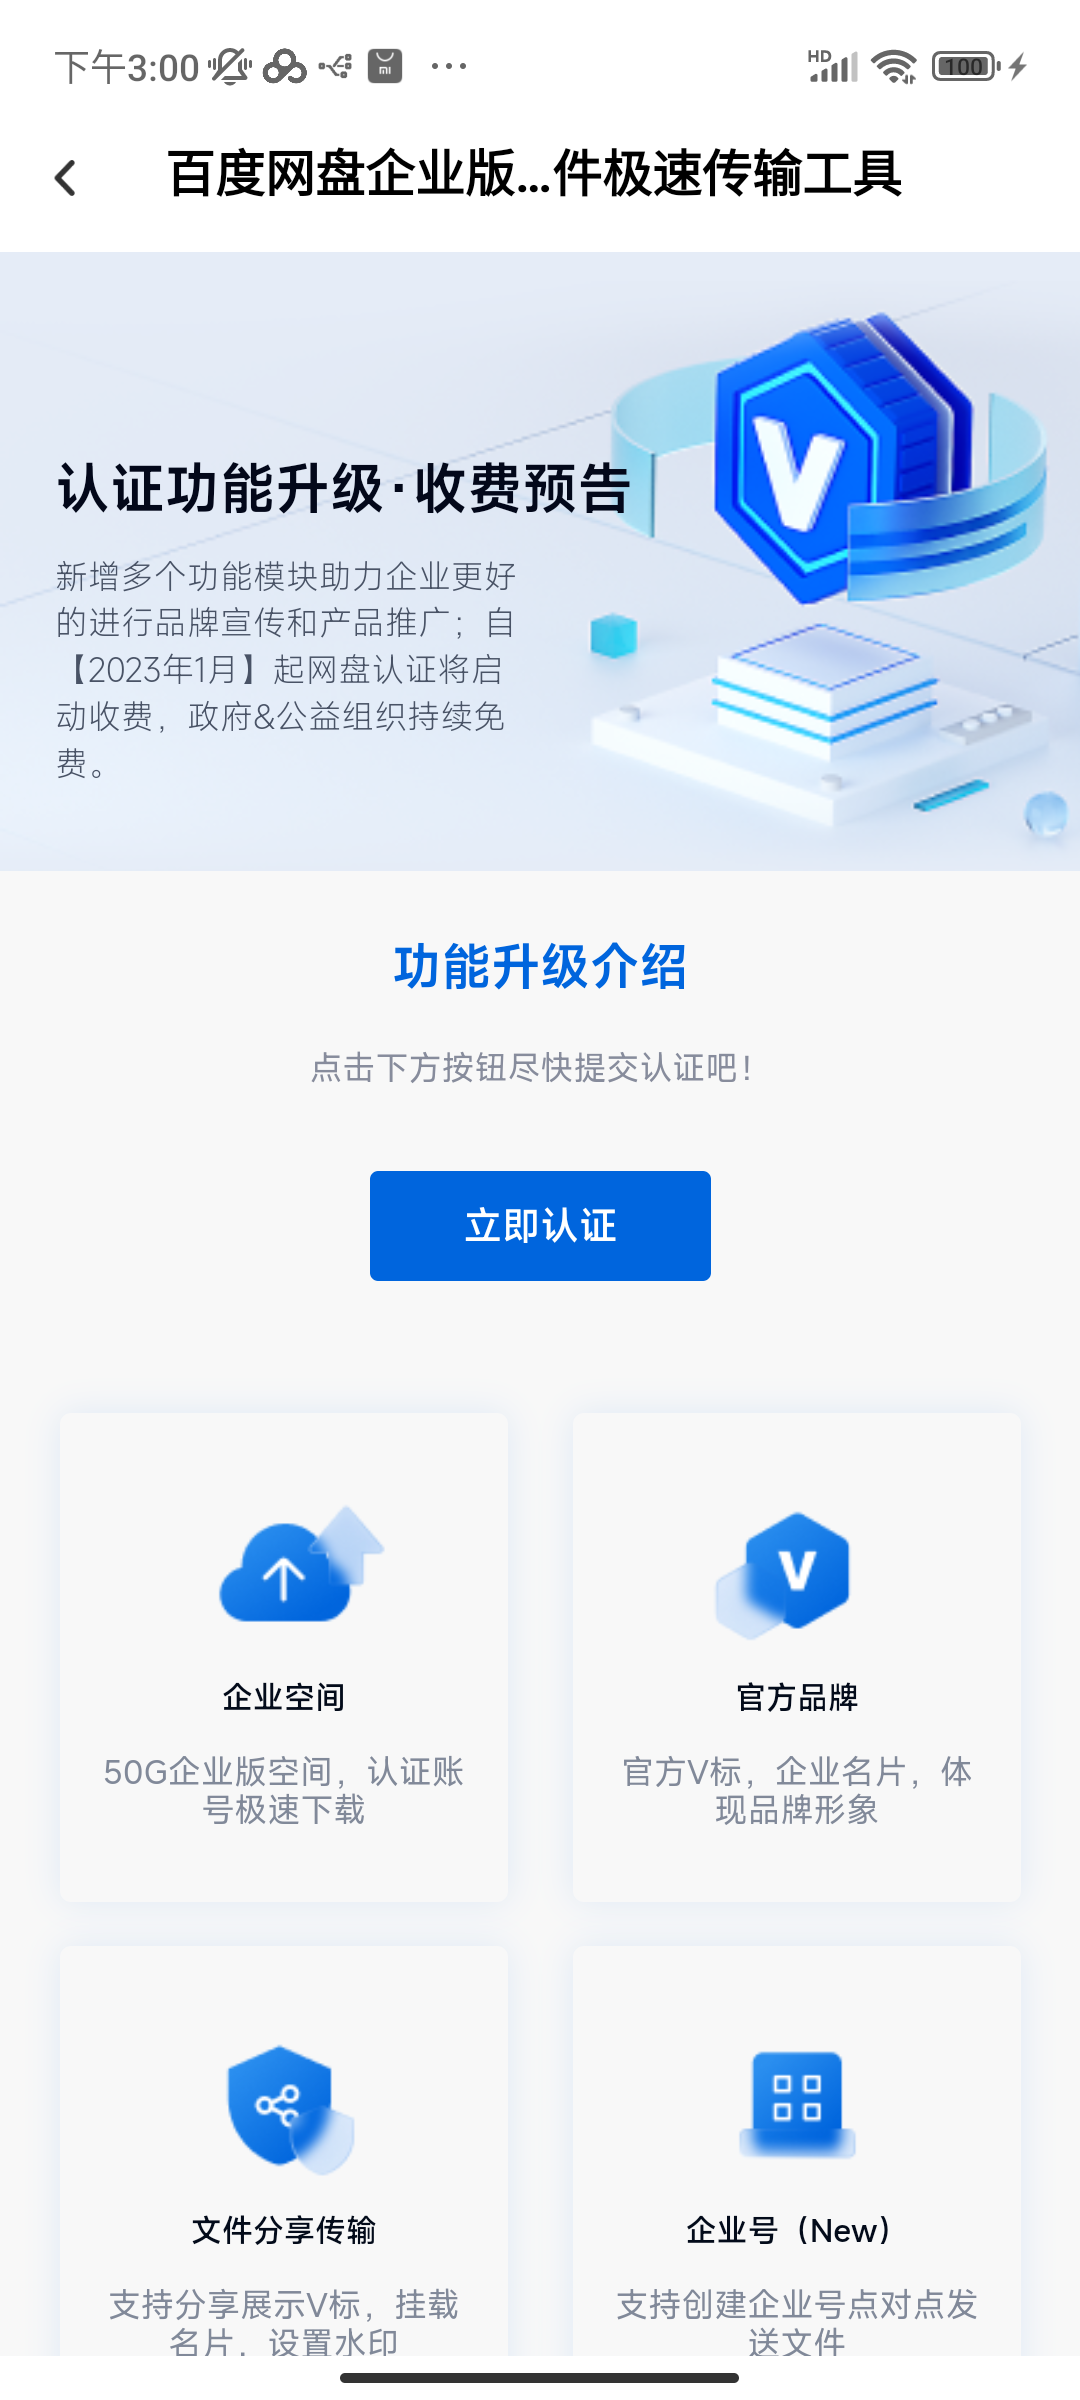ui_group: (21, 286, 1051, 2376)
